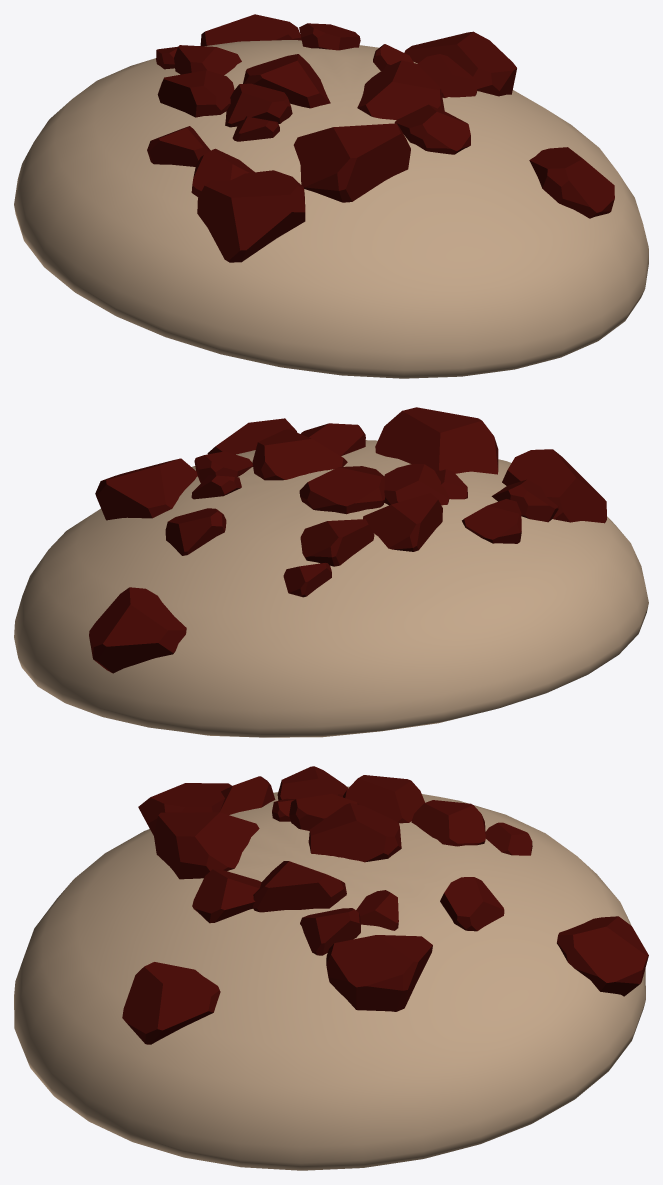
Rendered from SM_cookie.fbx.
The picture shows the model from 3 angles, top to bottom: view 1: azimuth 30°, elevation 25°; view 2: azimuth 150°, elevation 25°; view 3: azimuth 270°, elevation 25°; orthographic projection.
Parts seen in each view (by area): view 1: SM_cookie; view 2: SM_cookie; view 3: SM_cookie.
Boxes of the visible parts, <box> form: SM_cookie: <box>14,14,648,378</box>; SM_cookie: <box>14,407,648,737</box>; SM_cookie: <box>14,766,648,1170</box>.
Bounding box in the file's own units: 17.41 × 6.57 × 17.59.
1 material, 1 textured.
